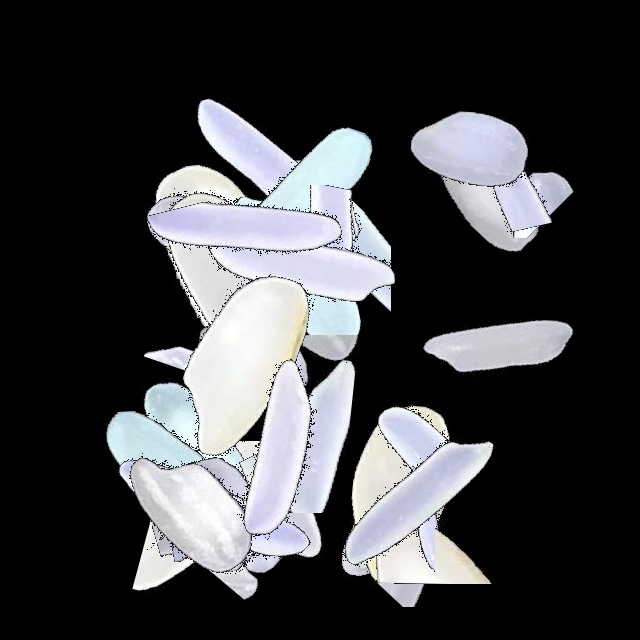Broken: (155, 198, 323, 448), (109, 441, 359, 603), (308, 452, 558, 607), (129, 192, 379, 347), (145, 359, 395, 513), (241, 145, 391, 395), (87, 249, 337, 395), (221, 390, 362, 640), (152, 390, 288, 640), (197, 185, 447, 321), (376, 120, 626, 238), (123, 271, 373, 389), (462, 43, 580, 293), (177, 390, 295, 640), (324, 469, 574, 584), (321, 390, 435, 640), (214, 226, 464, 336), (372, 296, 480, 546), (187, 335, 437, 436), (168, 390, 264, 640), (225, 145, 317, 395), (108, 367, 192, 617), (166, 390, 250, 640), (269, 521, 519, 602), (276, 101, 356, 351), (115, 520, 365, 597)
Full: (97, 144, 347, 394), (363, 68, 613, 318), (271, 390, 521, 640), (135, 390, 385, 640), (274, 371, 524, 621), (80, 328, 330, 578), (375, 214, 625, 464), (91, 114, 341, 364), (164, 144, 414, 394), (168, 146, 418, 396), (150, 44, 400, 294), (73, 390, 323, 640), (132, 148, 382, 398), (70, 354, 320, 604), (91, 390, 341, 640), (172, 75, 422, 325), (111, 158, 361, 408), (174, 138, 424, 388), (343, 22, 593, 272), (117, 241, 367, 491), (88, 383, 338, 633), (292, 377, 542, 627), (63, 390, 313, 640), (148, 323, 398, 573)
